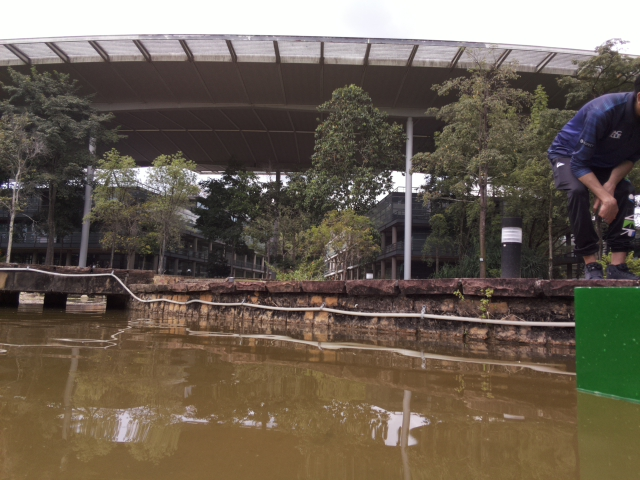obstacle: (572, 285, 640, 405)
